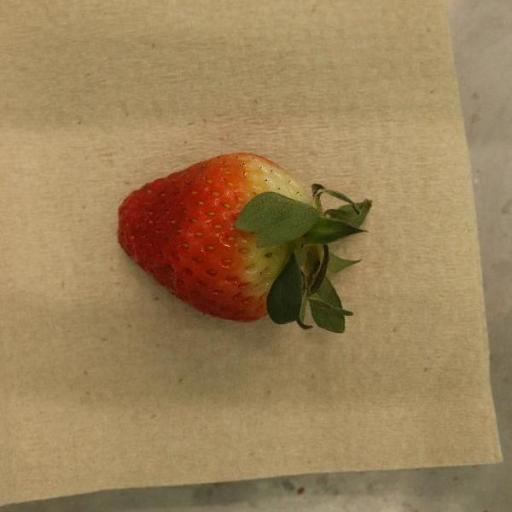Strawberry: (118, 153, 373, 334)
